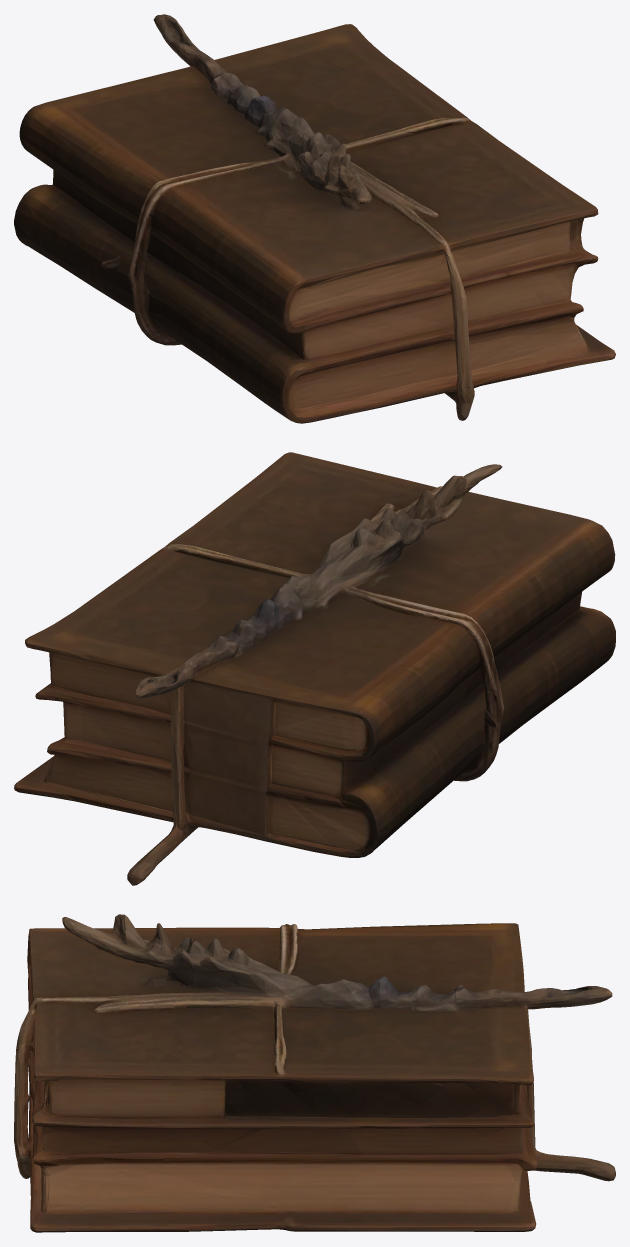
File: books_spell_stack.glb
3 renders of one model, top to bottom at view 1: azimuth 30°, elevation 25°; view 2: azimuth 150°, elevation 25°; view 3: azimuth 270°, elevation 25°, orthographic. The views are drawn at different scales.
Parts seen in each view (by area): view 1: geometry_0; view 2: geometry_0; view 3: geometry_0.
Boxes of the visible parts, left/top/right/bottom form: geometry_0: left=14, top=14, right=615, bottom=423; geometry_0: left=14, top=452, right=615, bottom=885; geometry_0: left=14, top=914, right=615, bottom=1232.
Bounding box in the file's own units: 0.6922 × 0.4257 × 0.9978.
Materials: 1 (1 with a texture image).
